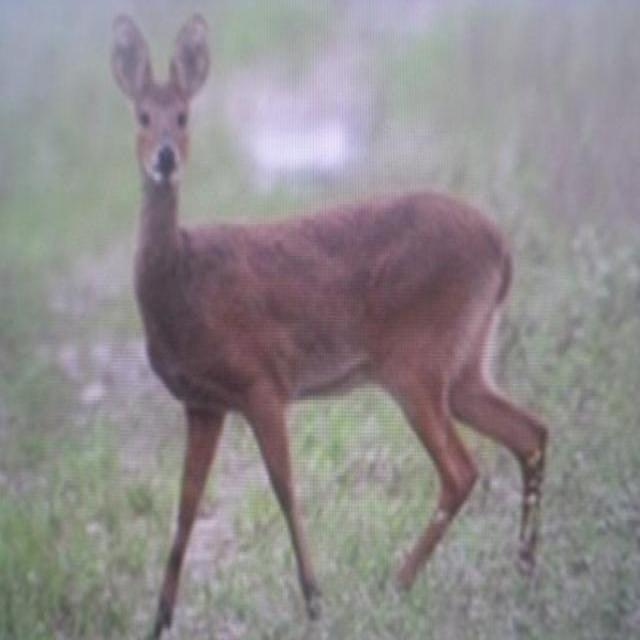deer: (74, 0, 586, 640)
